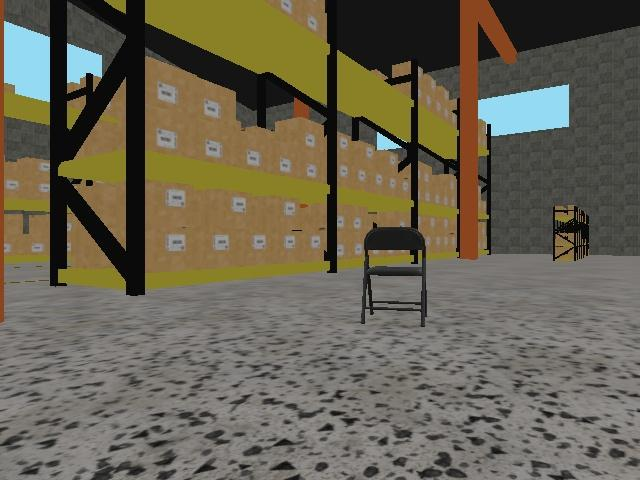chair: (361, 226, 428, 325)
